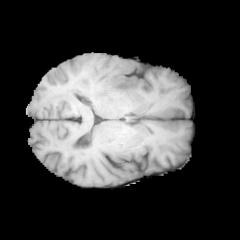glioma: (75, 56, 139, 101)
